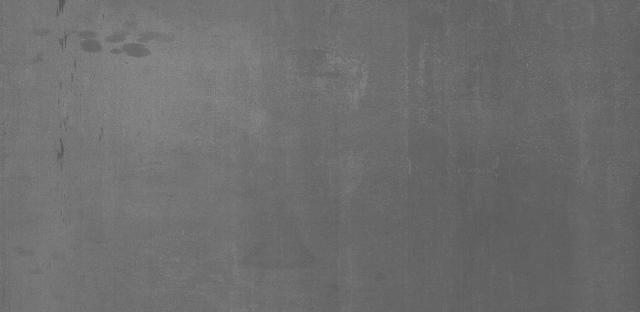water_spot: (54, 18, 181, 75)
